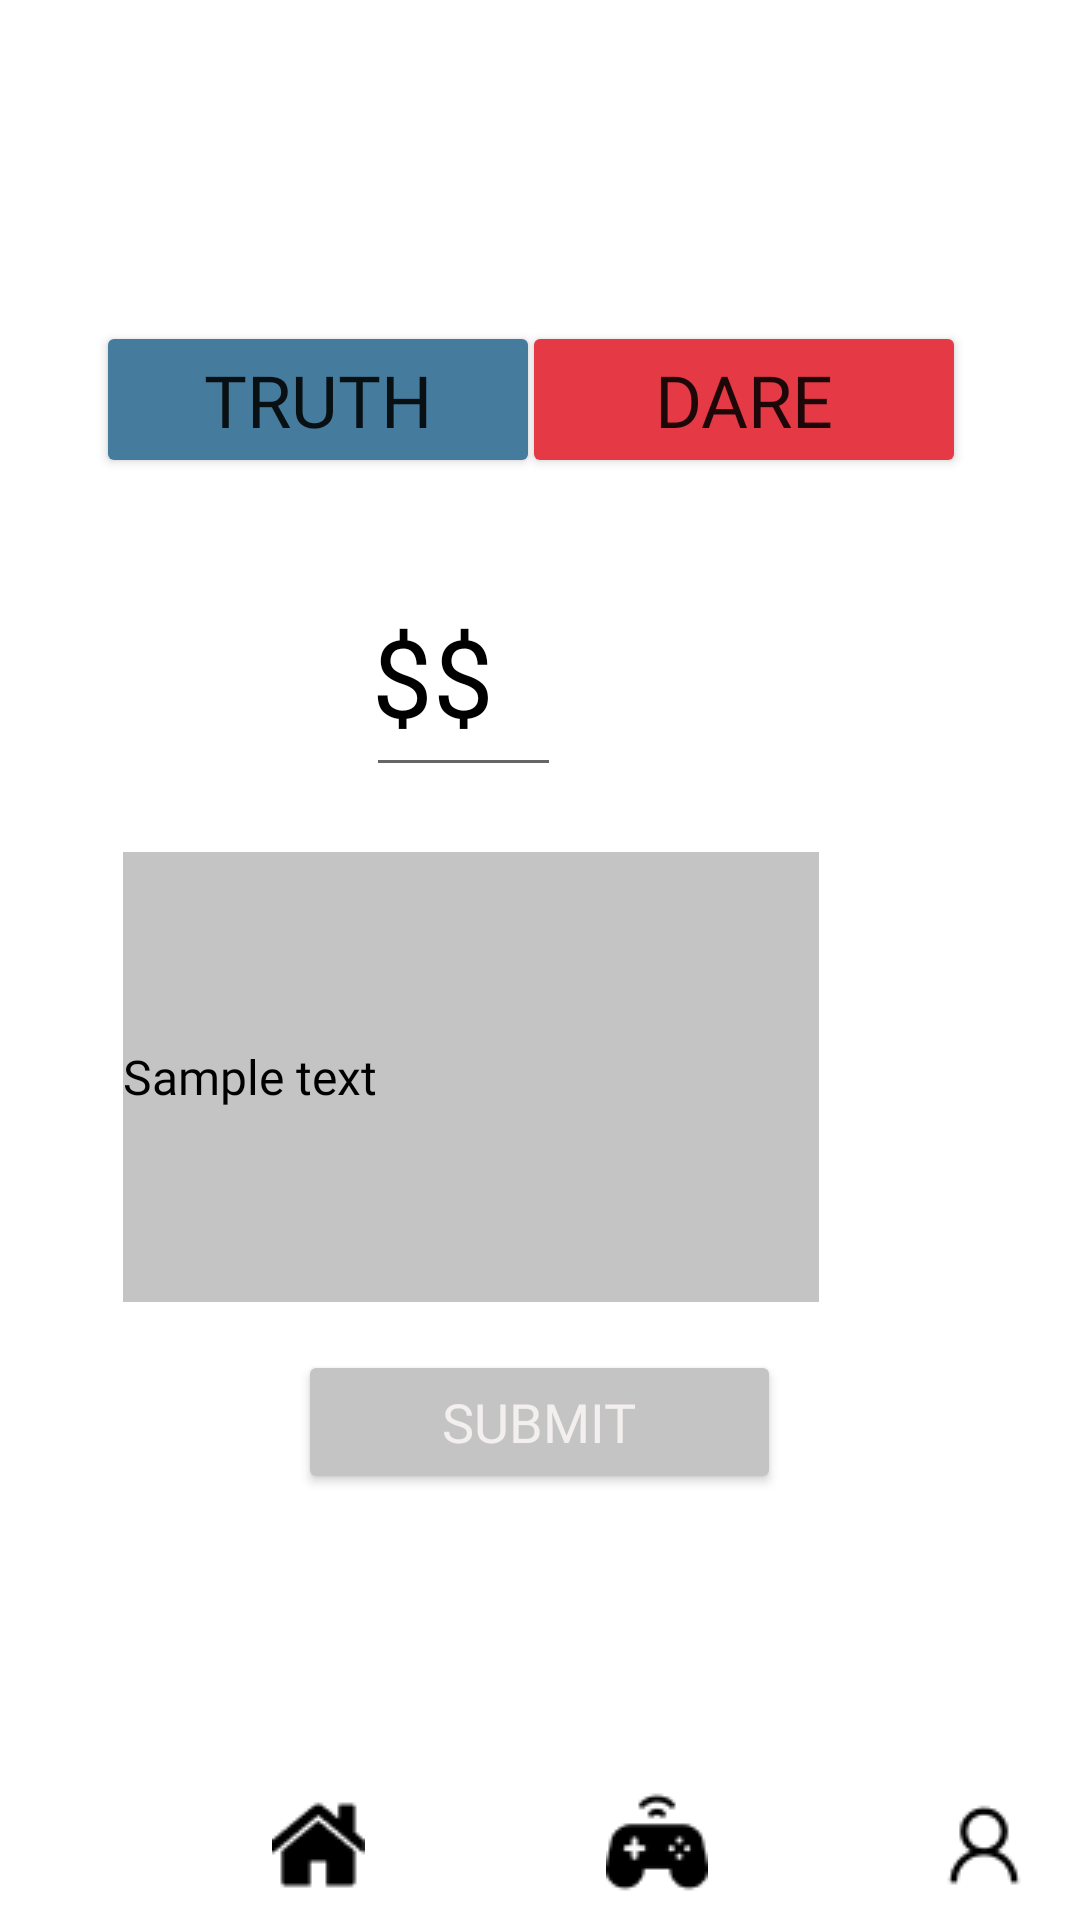

Screen size 1080w x 1920h. Icon name, then its box in pixels as (x1, y1, x2, y2):
home: (272, 1802, 365, 1888)
user: (948, 1805, 1020, 1885)
